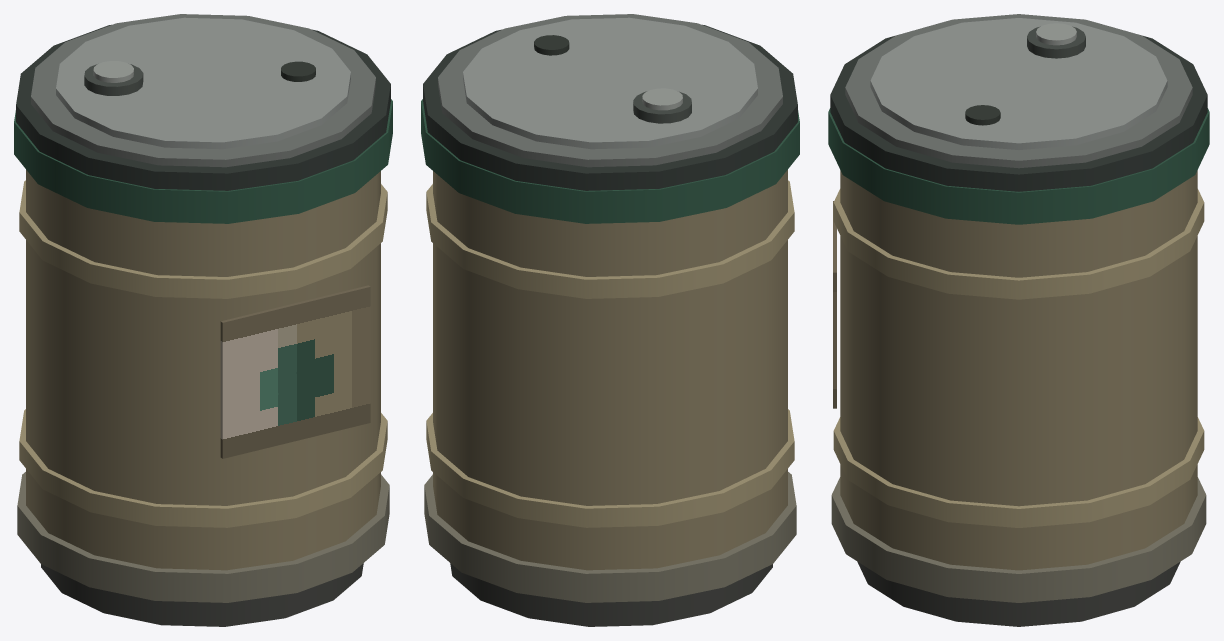
The model's file is CMU3DRMCBarrelWhite.glb.
3 renders of one model, left to right at view 1: azimuth 30°, elevation 25°; view 2: azimuth 150°, elevation 25°; view 3: azimuth 270°, elevation 25°, orthographic.
Visible parts, largest first — view 1: painted steel drum, lid raised center, Label source artwork, pressed drum hoop (×2), lower metal band, upper colored band, steel lid, steel lid rim, bottom rolled rim, large bung surround, large bung cap, small bung; view 2: painted steel drum, lid raised center, pressed drum hoop (×2), lower metal band, upper colored band, steel lid, steel lid rim, bottom rolled rim, large bung surround, large bung cap, small bung; view 3: painted steel drum, lid raised center, pressed drum hoop (×2), lower metal band, upper colored band, steel lid, steel lid rim, bottom rolled rim, large bung surround, large bung cap, Label source artwork, small bung.
Part boxes in pixels (x1=…): painted steel drum: x1=26, y1=170, x2=380, y2=570; lid raised center: x1=56, y1=17, x2=350, y2=149; Label source artwork: x1=220, y1=285, x2=370, y2=458; pressed drum hoop (×2): x1=19, y1=180, x2=387, y2=527; lower metal band: x1=17, y1=472, x2=389, y2=602; upper colored band: x1=14, y1=99, x2=392, y2=223; steel lid: x1=31, y1=14, x2=375, y2=167; steel lid rim: x1=16, y1=24, x2=390, y2=190; bottom rolled rim: x1=41, y1=563, x2=363, y2=626; large bung surround: x1=84, y1=64, x2=143, y2=95; large bung cap: x1=93, y1=61, x2=133, y2=82; small bung: x1=281, y1=61, x2=315, y2=81; painted steel drum: x1=433, y1=170, x2=787, y2=570; lid raised center: x1=463, y1=17, x2=757, y2=149; pressed drum hoop (×2): x1=426, y1=180, x2=794, y2=527; lower metal band: x1=424, y1=472, x2=796, y2=602; upper colored band: x1=421, y1=99, x2=799, y2=223; steel lid: x1=438, y1=14, x2=782, y2=167; steel lid rim: x1=423, y1=24, x2=797, y2=190; bottom rolled rim: x1=450, y1=563, x2=772, y2=626; large bung surround: x1=633, y1=91, x2=691, y2=123; large bung cap: x1=642, y1=88, x2=682, y2=110; small bung: x1=534, y1=35, x2=569, y2=55; painted steel drum: x1=840, y1=170, x2=1197, y2=570; lid raised center: x1=870, y1=18, x2=1167, y2=149; pressed drum hoop (×2): x1=833, y1=189, x2=1204, y2=527; lower metal band: x1=831, y1=477, x2=1206, y2=602; upper colored band: x1=828, y1=108, x2=1209, y2=224; steel lid: x1=845, y1=14, x2=1192, y2=168; steel lid rim: x1=830, y1=35, x2=1207, y2=191; bottom rolled rim: x1=857, y1=561, x2=1180, y2=626; large bung surround: x1=1027, y1=26, x2=1085, y2=58; large bung cap: x1=1036, y1=23, x2=1076, y2=45; Label source artwork: x1=833, y1=201, x2=836, y2=408; small bung: x1=965, y1=105, x2=1000, y2=125.
Size of the model in its own units: 0.56 by 0.796 by 0.56.
Materials: 12 (1 with a texture image).
